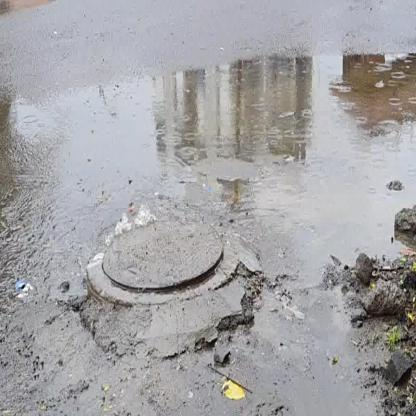drainage overflow-repair-: (12, 75, 246, 321)
